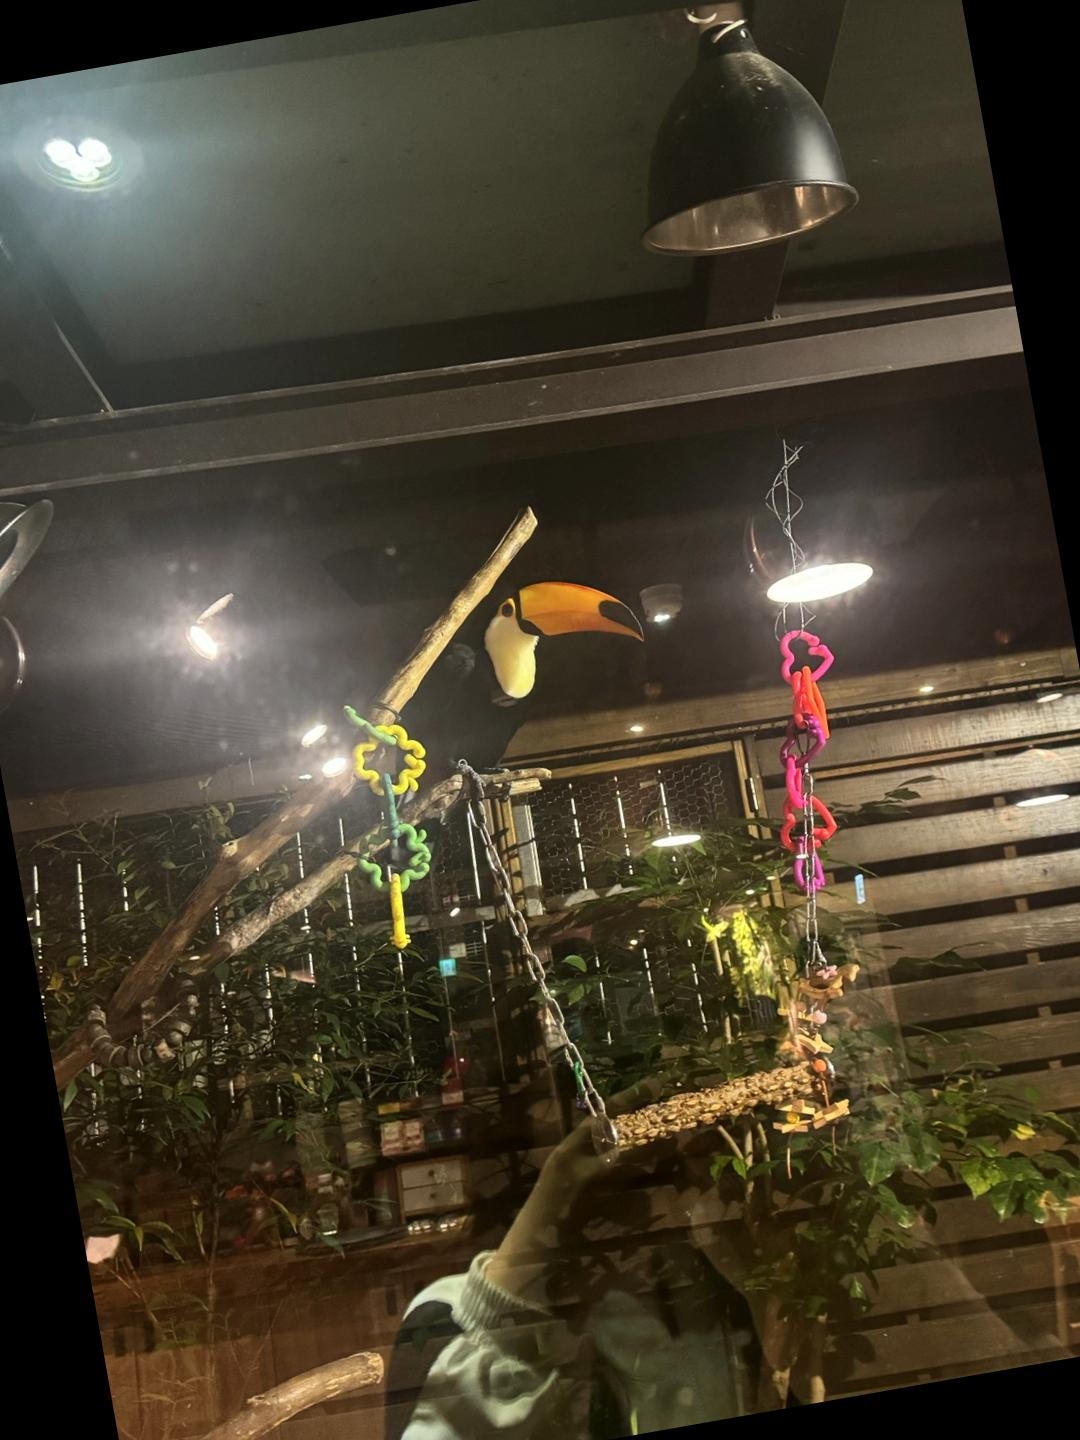bird: (358, 551, 680, 816)
